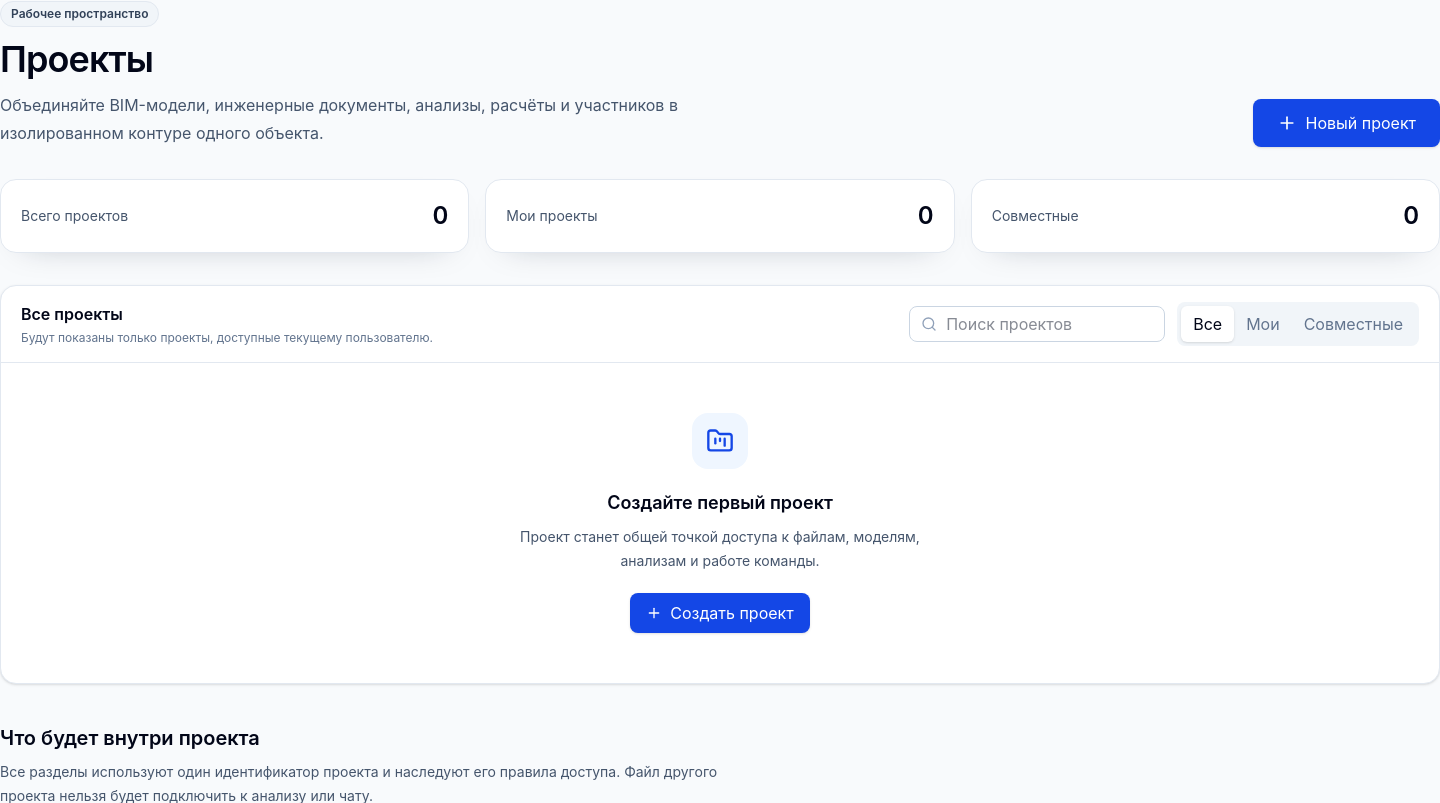
Scenario: ProjectsWorkspace › создаёт проект через API и показывает его в списке
This screenshot has width=1440, height=803.
Click the button "Новый проект" at (1347, 123), box [1254,99,1439,147]
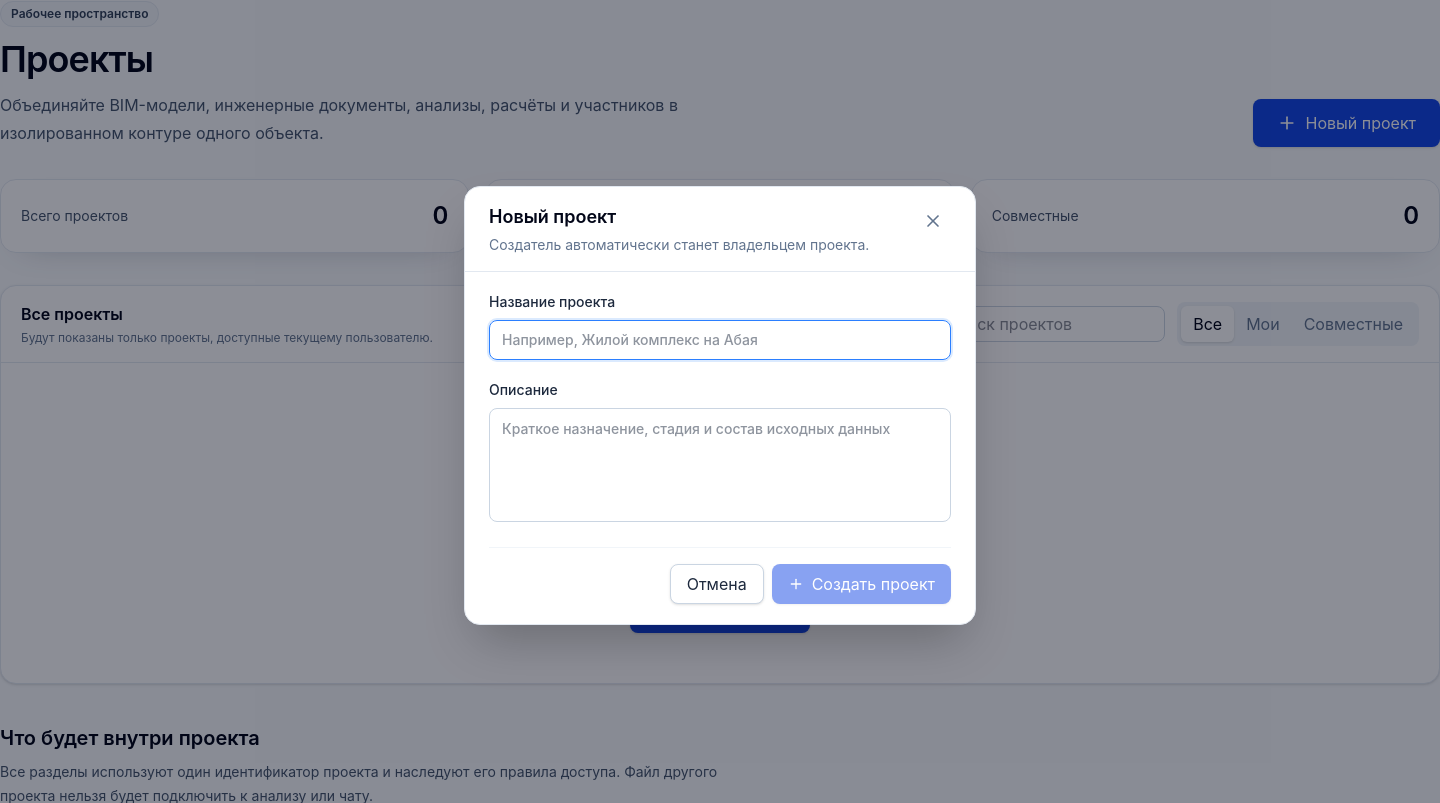
Check: the dialog "Новый проект" is shown, box [464,186,976,624]
Type "Тестовый объект" into the field labelled "Название проекта" at (720, 340), box [489,320,951,360]
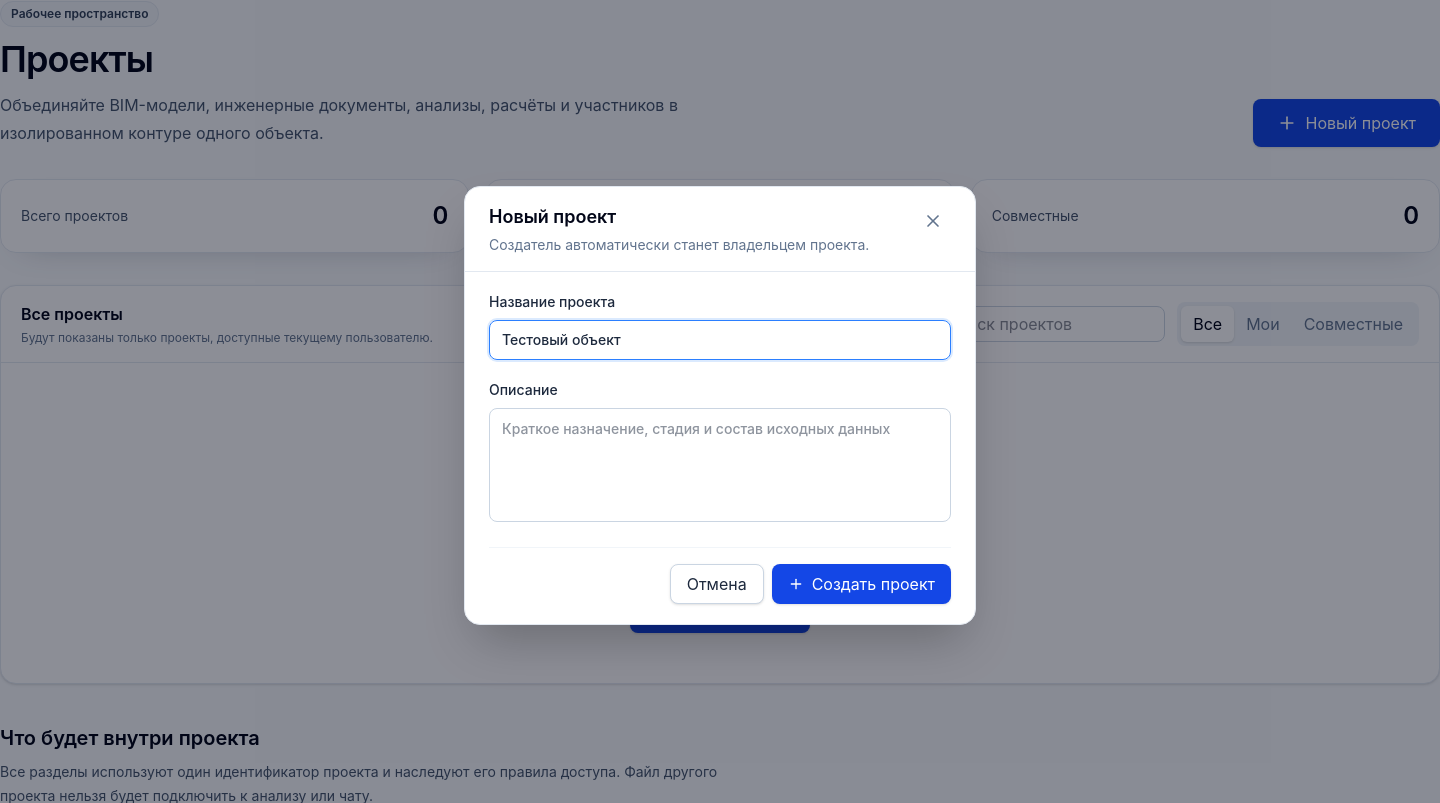
Type "Стадия П" into the text box labelled "Описание" at (720, 464), box [489,408,951,522]
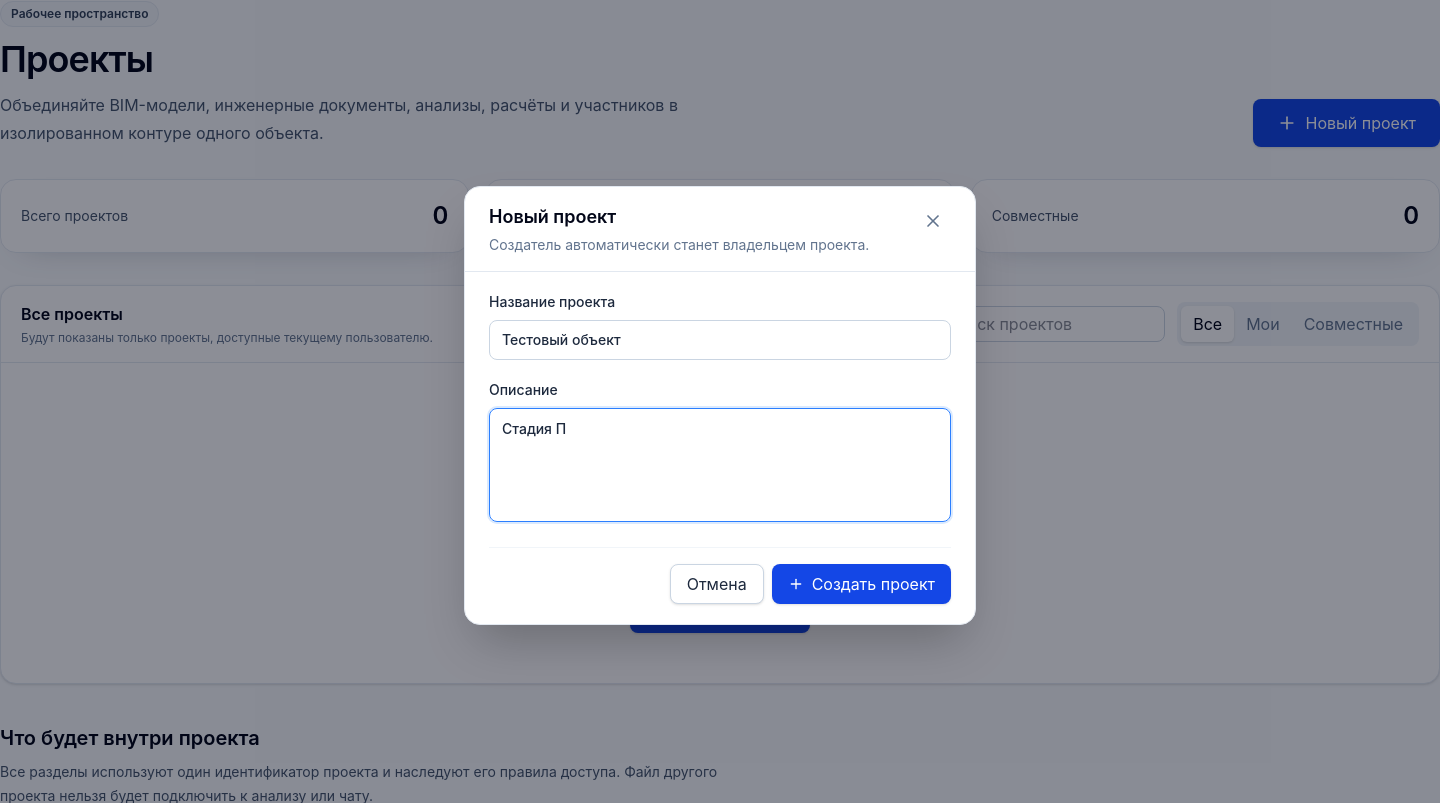
Click the button "Создать проект" at (861, 584), box [772,564,951,604]
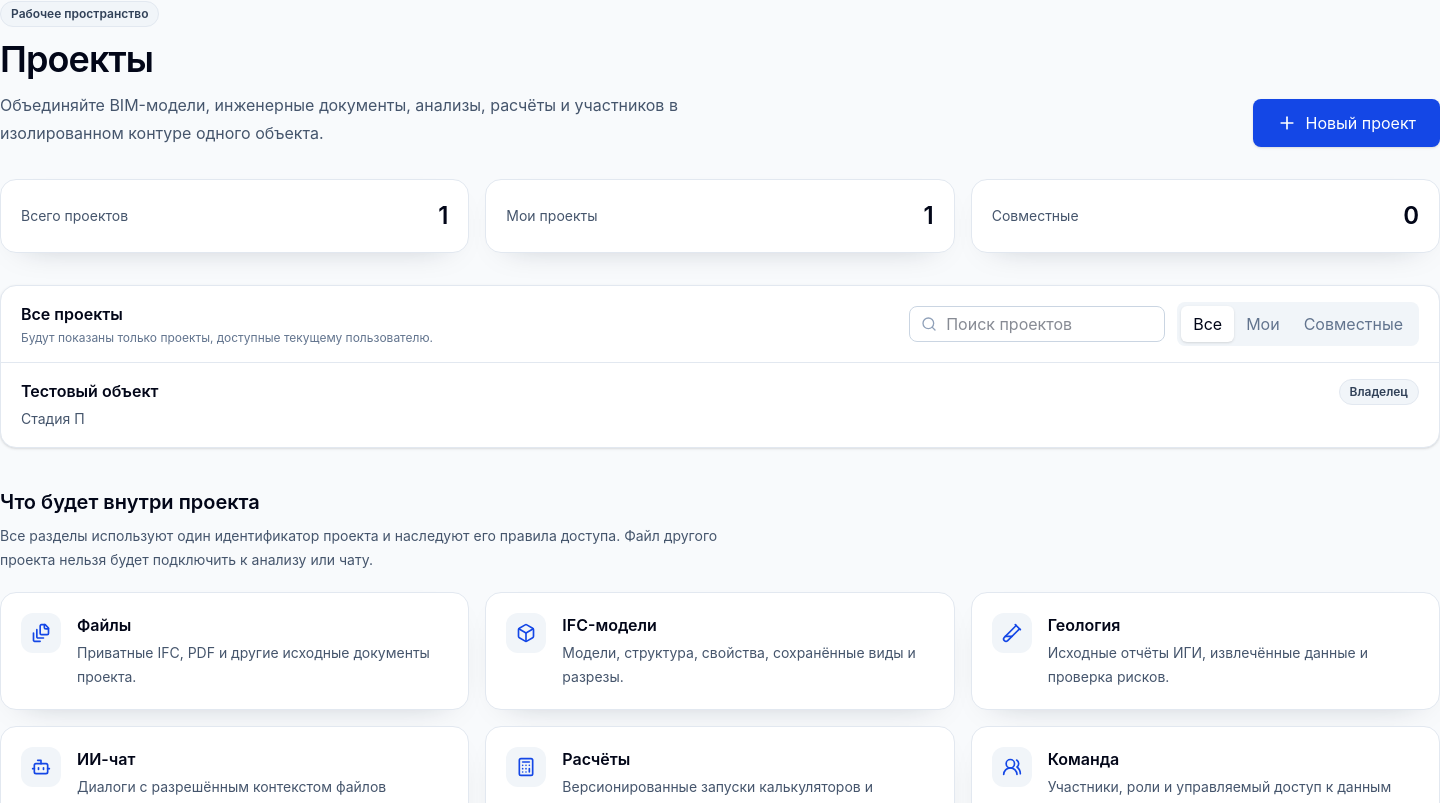
Check: the link "Тестовый объект" is shown, box [21,381,158,401]
